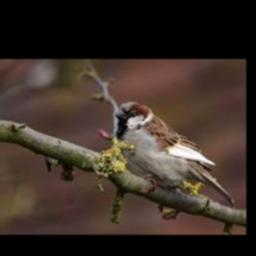Sparrow: (115, 101, 236, 208)
